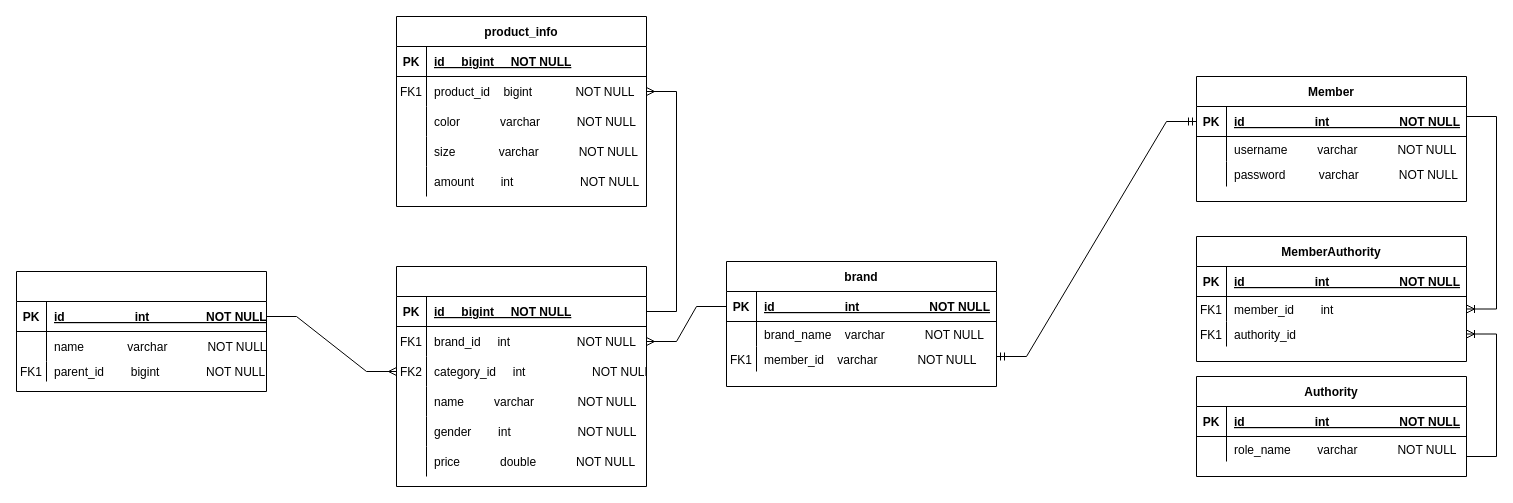
Image size: 1513x503. Some labels were removed from this diagram. The shapes that lost their labels are listed below. From the top down, each one's box as (x1, y1, x2, y2) in pixels, then its label:
(16, 270, 266, 392): category
(396, 266, 646, 486): product
